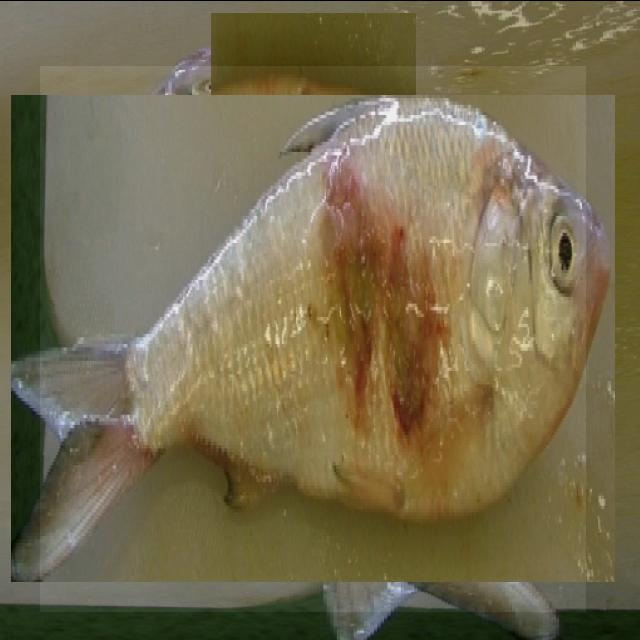EUS Disease: (41, 65, 586, 611), (138, 84, 488, 434)
